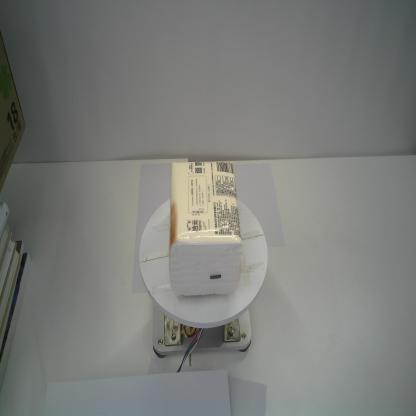Tissue: (168, 160, 245, 298)
